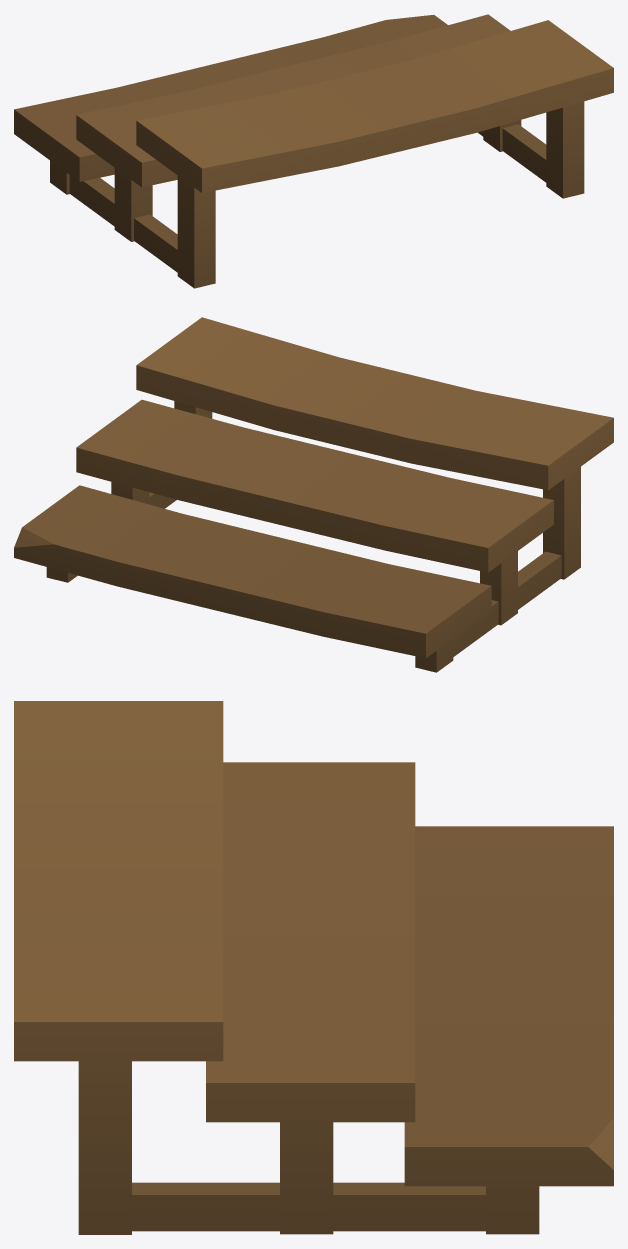
File: Stairs_Short.fbx
3 renders of one model, top to bottom at view 1: azimuth 30°, elevation 25°; view 2: azimuth 150°, elevation 25°; view 3: azimuth 270°, elevation 25°, orthographic. The views are drawn at different scales.
Visible parts, largest first — view 1: Cube.022; view 2: Cube.022; view 3: Cube.022.
Part boxes in pixels (left/top/right/bottom): Cube.022: left=14, top=14, right=613, bottom=288; Cube.022: left=14, top=317, right=613, bottom=672; Cube.022: left=14, top=701, right=613, bottom=1234.
Bounding box in the file's own units: 366 × 117 × 289.
